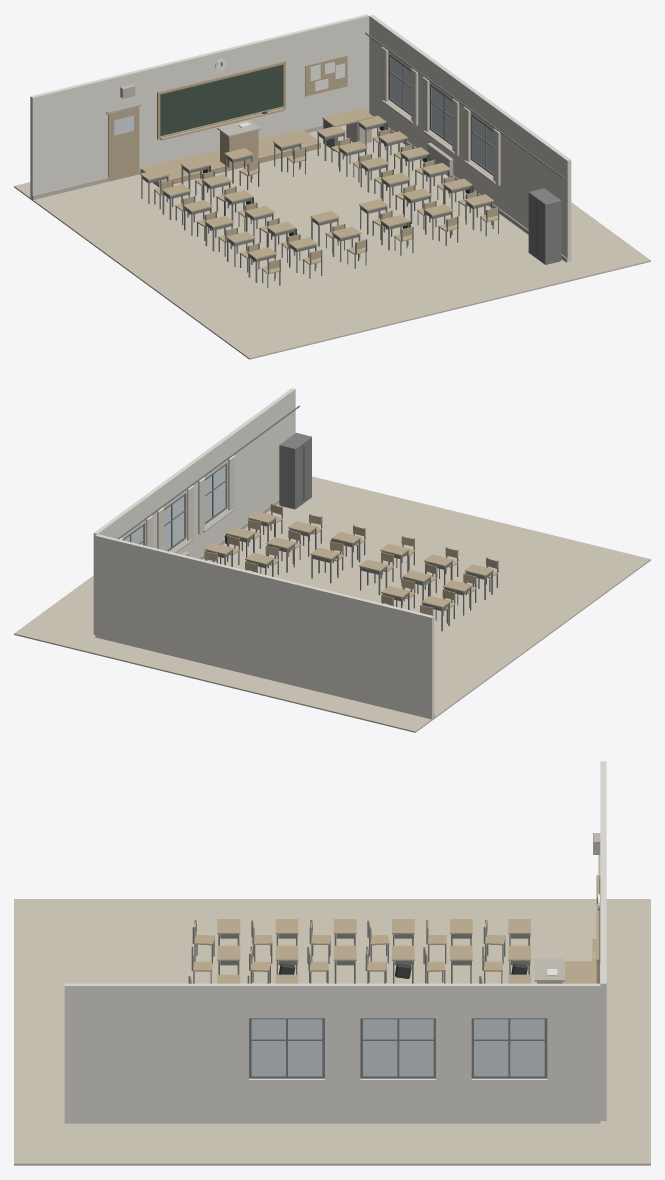
The model's file is classroom.glb.
The picture shows the model from 3 angles, top to bottom: view 1: azimuth 30°, elevation 25°; view 2: azimuth 150°, elevation 25°; view 3: azimuth 270°, elevation 25°; orthographic projection. The views are drawn at different scales.
Visible parts, largest first — view 1: SM_Classroom; view 2: SM_Classroom; view 3: SM_Classroom.
Part boxes in pixels (x1,y1,x2,y2): SM_Classroom: (14, 14, 650, 359); SM_Classroom: (14, 388, 650, 732); SM_Classroom: (14, 761, 650, 1165).
Bounding box in the file's own units: 12.4 × 3.04 × 12.6.
